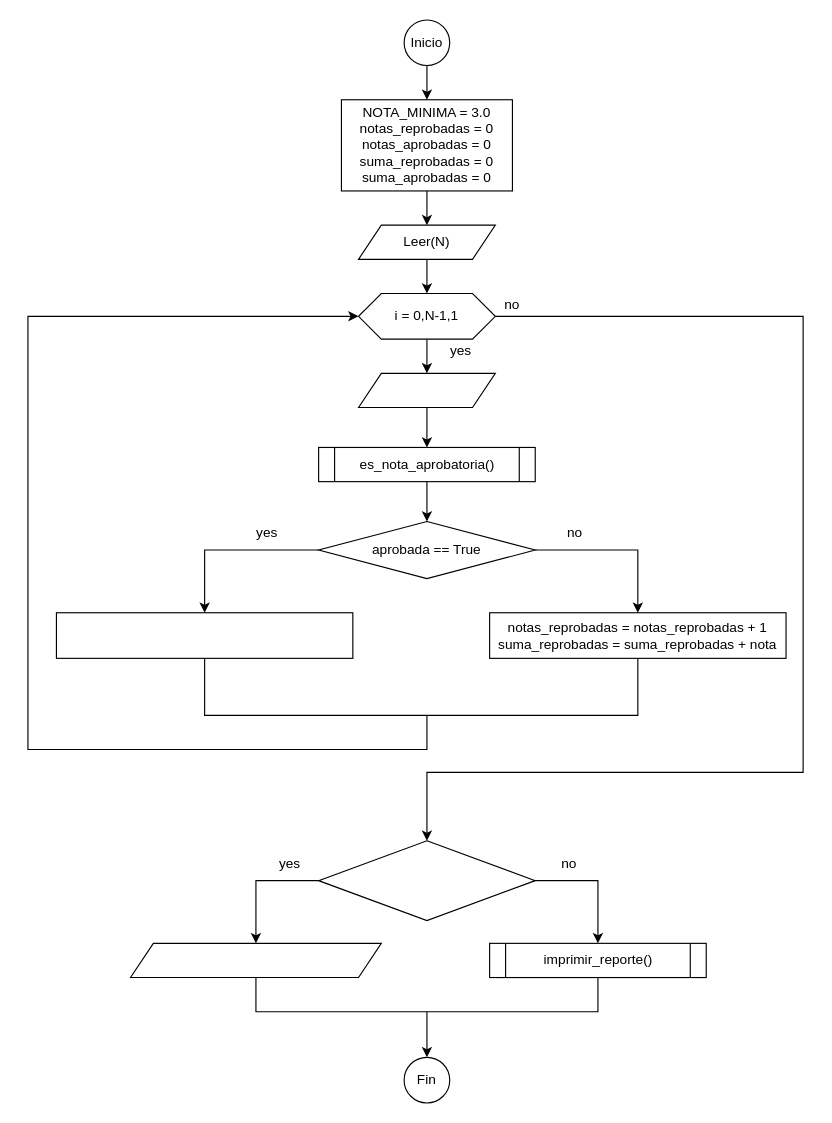
The diagram is 832 pixels wide and 1123 high, and some of its shapes have lost their labels. Here are the shapes that lost their labels. From the top down, the centre of each, then its label:
point (426, 390): Leer(nota)
point (204, 635): notas_aprobadas = notas_aprobadas + 1 suma_aprobadas = suma_aprobadas + nota
point (426, 880): N <= 0
point (255, 960): Escribir(("No hay estudiantes")
